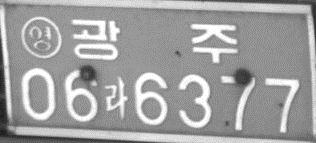0: (20, 66, 56, 122)
3: (177, 73, 212, 128)
6: (134, 71, 168, 127), (64, 67, 98, 122)
7: (218, 74, 256, 131), (264, 76, 300, 132)
광주_D: (70, 17, 238, 64)
라: (103, 75, 128, 120)
영: (20, 14, 61, 60)
